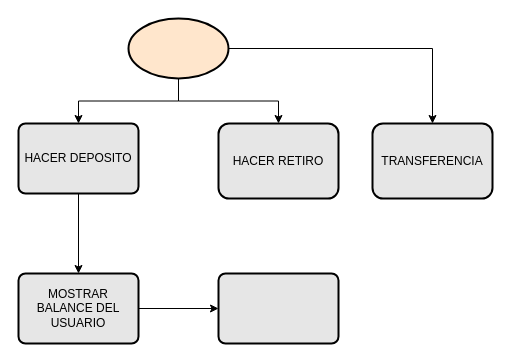
The diagram is 510 pixels wide and 361 high, and some of its shapes have lost their labels. The box of each missing label's shape, as (x1, y1, x2, y2) in pixels:
FIN: (217, 272, 339, 344)
USUARIO: (127, 17, 229, 79)
